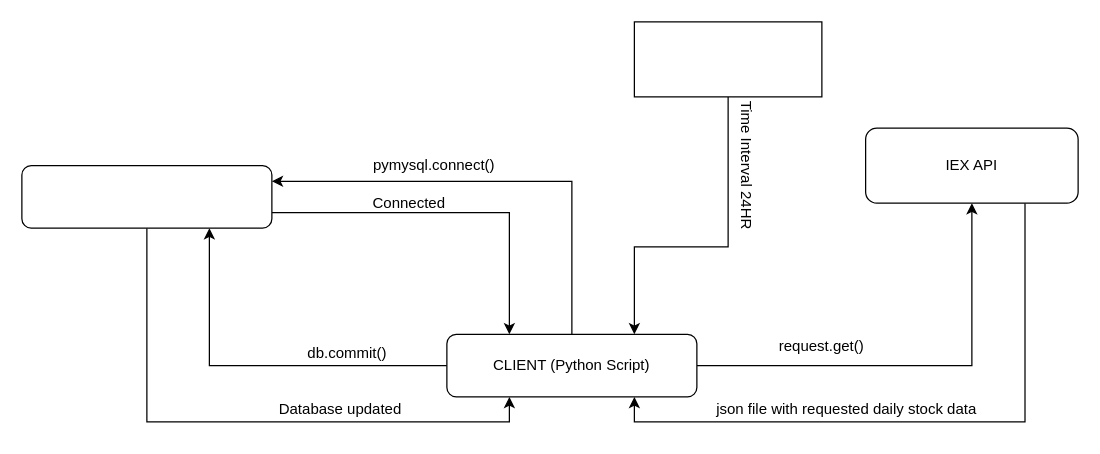
The diagram is 1100 pixels wide and 454 high, and some of its shapes have lost their labels. Here are the shapes that lost their labels. From the top down, the box of each, then its label:
(633, 21, 822, 97): SCHEDULER
(21, 164, 272, 228): MYSQL DATABASE
